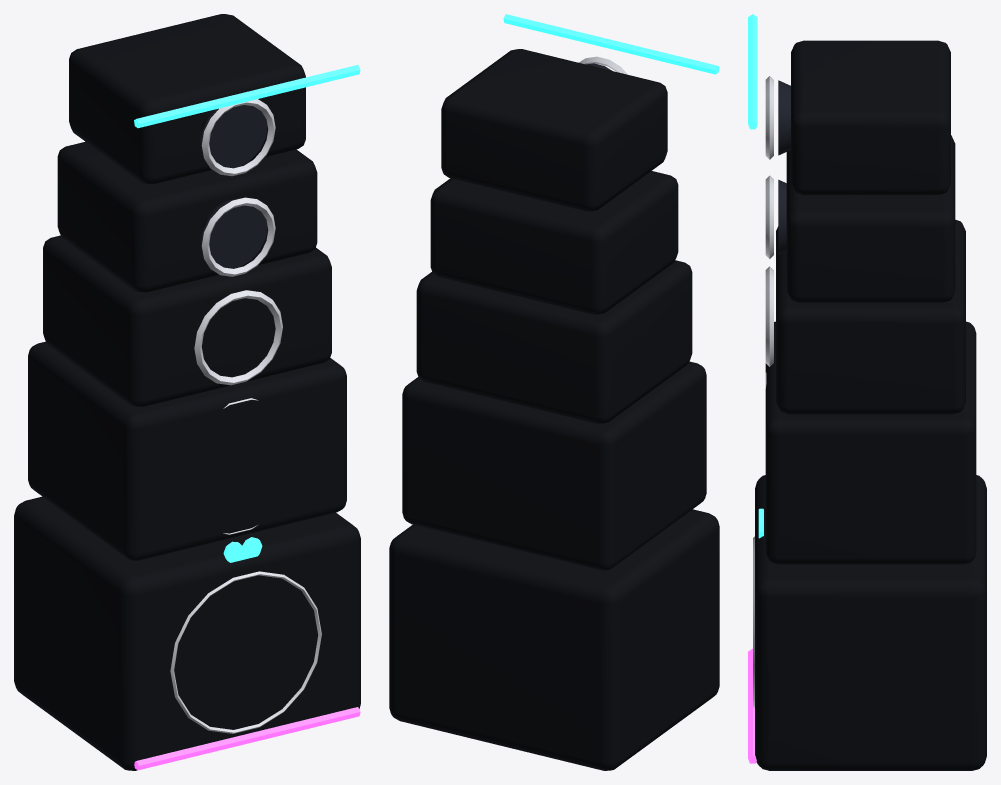
The model's file is speaker_stack_neon.glb.
The picture shows the model from 3 angles, left to right: view 1: azimuth 30°, elevation 25°; view 2: azimuth 150°, elevation 25°; view 3: azimuth 270°, elevation 25°; orthographic projection. The views are drawn at different scales.
Parts seen in each view (by area): view 1: speaker_stack_neon; view 2: speaker_stack_neon; view 3: speaker_stack_neon.
Boxes of the visible parts, bbox=[...] form: speaker_stack_neon: bbox=[14, 14, 360, 770]; speaker_stack_neon: bbox=[389, 14, 719, 770]; speaker_stack_neon: bbox=[748, 14, 986, 770].
Size of the model in its own units: 0.65 by 1.7 by 0.5664.
